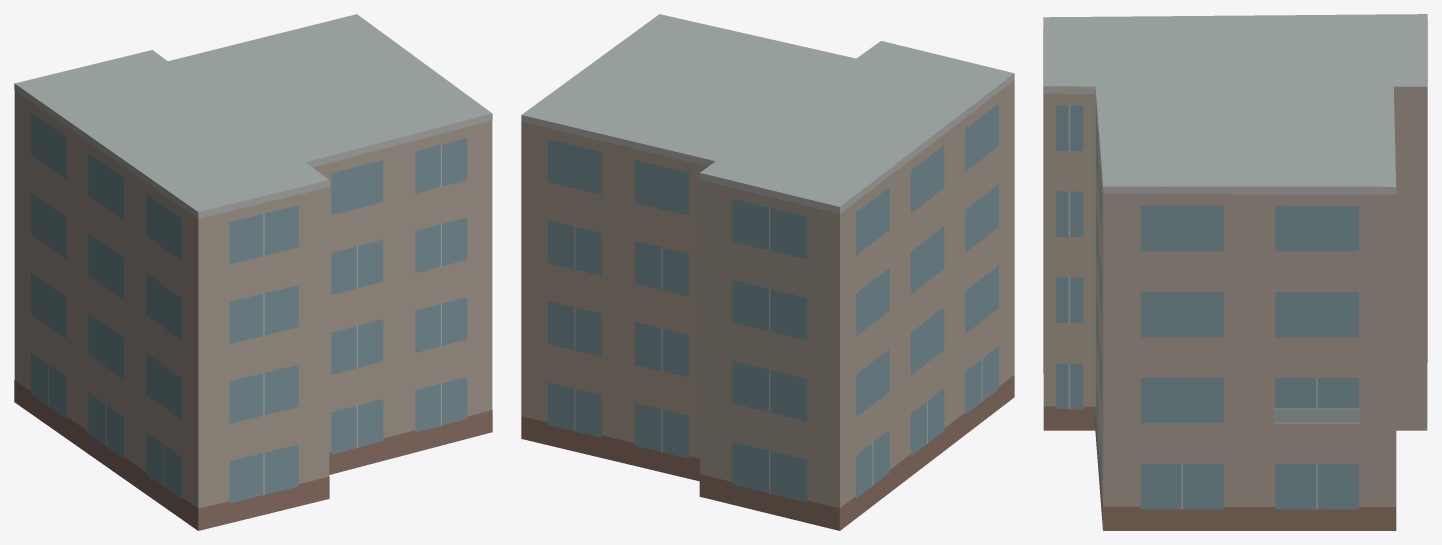
File: survey-upis-32579463.glb
3 renders of one model, left to right at view 1: azimuth 30°, elevation 25°; view 2: azimuth 150°, elevation 25°; view 3: azimuth 270°, elevation 25°, orthographic. The views are drawn at different scales.
Parts seen in each view (by area): view 1: survey-upis-32579463.tmp; view 2: survey-upis-32579463.tmp; view 3: survey-upis-32579463.tmp.
Part boxes in pixels (x1,y1,x2,y2): survey-upis-32579463.tmp: (14, 14, 492, 530); survey-upis-32579463.tmp: (521, 14, 1014, 530); survey-upis-32579463.tmp: (1043, 14, 1427, 530).
Size of the model in its own units: 12.21 by 11.3 by 11.45.
